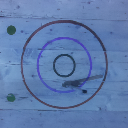Axe Tip: (66, 83, 81, 86)
